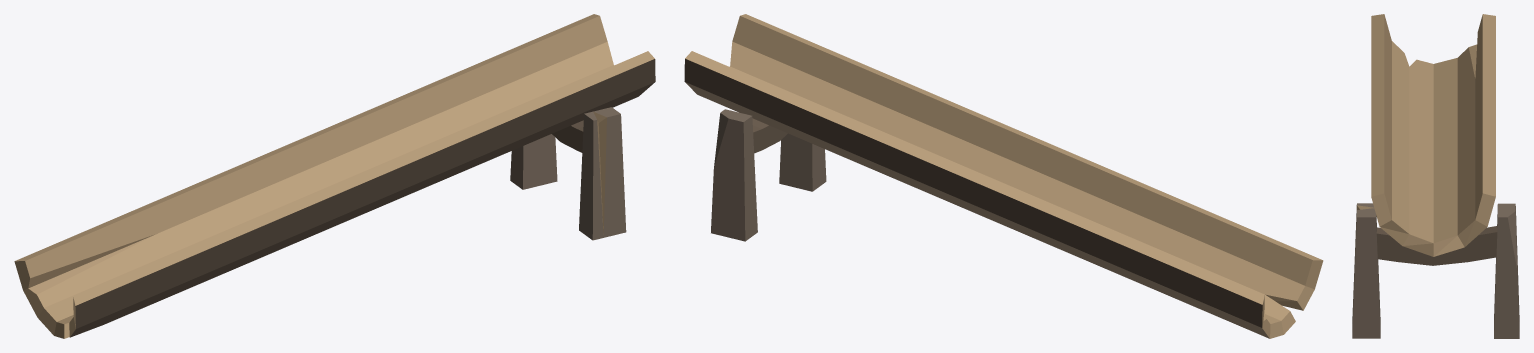
File: _for_wood.fbx
3 views of the same model, side by side, from view 1: azimuth 30°, elevation 25°; view 2: azimuth 150°, elevation 25°; view 3: azimuth 270°, elevation 25° (orthographic). The views are drawn at different scales.
Parts seen in each view (by area): view 1: for_wood; view 2: for_wood; view 3: for_wood.
Boxes of the visible parts, bbox=[...] form: for_wood: bbox=[14, 14, 655, 338]; for_wood: bbox=[684, 14, 1323, 338]; for_wood: bbox=[1352, 14, 1519, 338].
Size of the model in its own units: 362 by 96.01 by 87.27.
